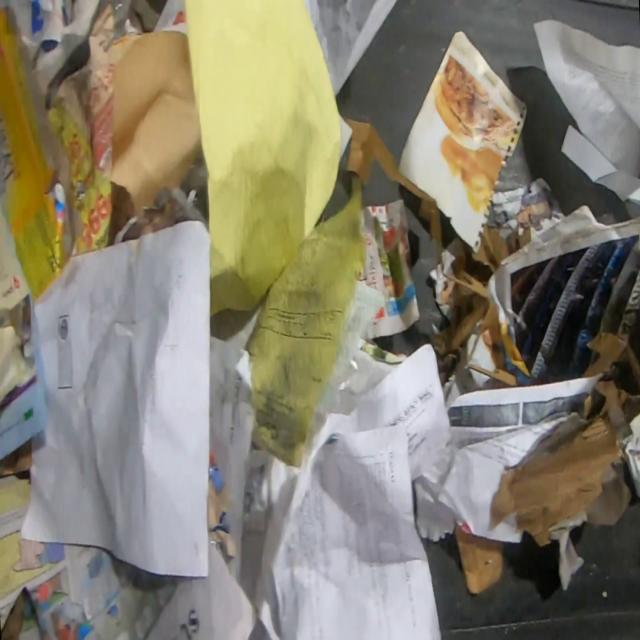cardboard: (489, 334, 640, 548), (0, 0, 84, 302), (345, 117, 444, 263), (432, 225, 509, 352), (454, 530, 504, 595)
rigid_plastic: (205, 450, 237, 566)
